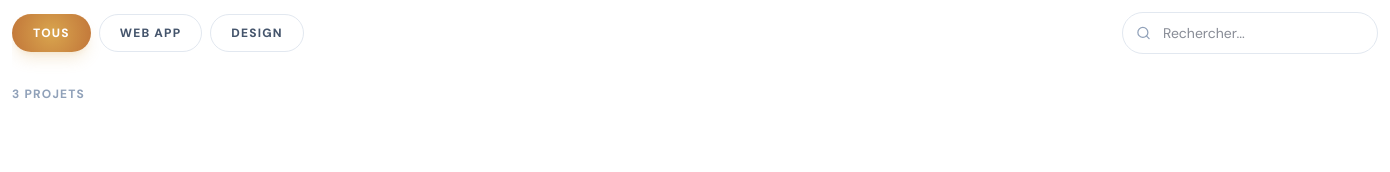
it: ProjectGrid › filtre par catégorie
Click the button "Design" at {"x": 257, "y": 33}, box [210,14,304,52]
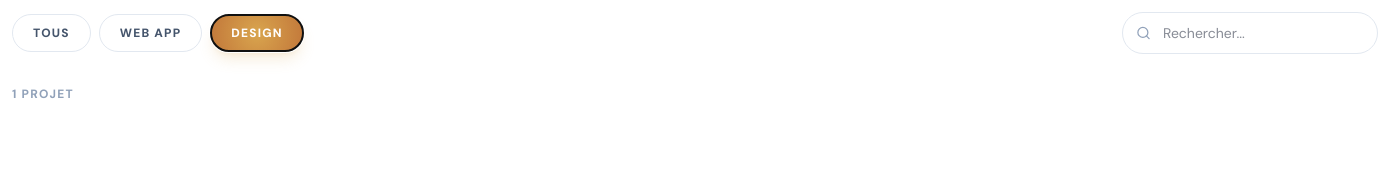
Result: the text "1 projet" is shown at [12,86,74,102]
